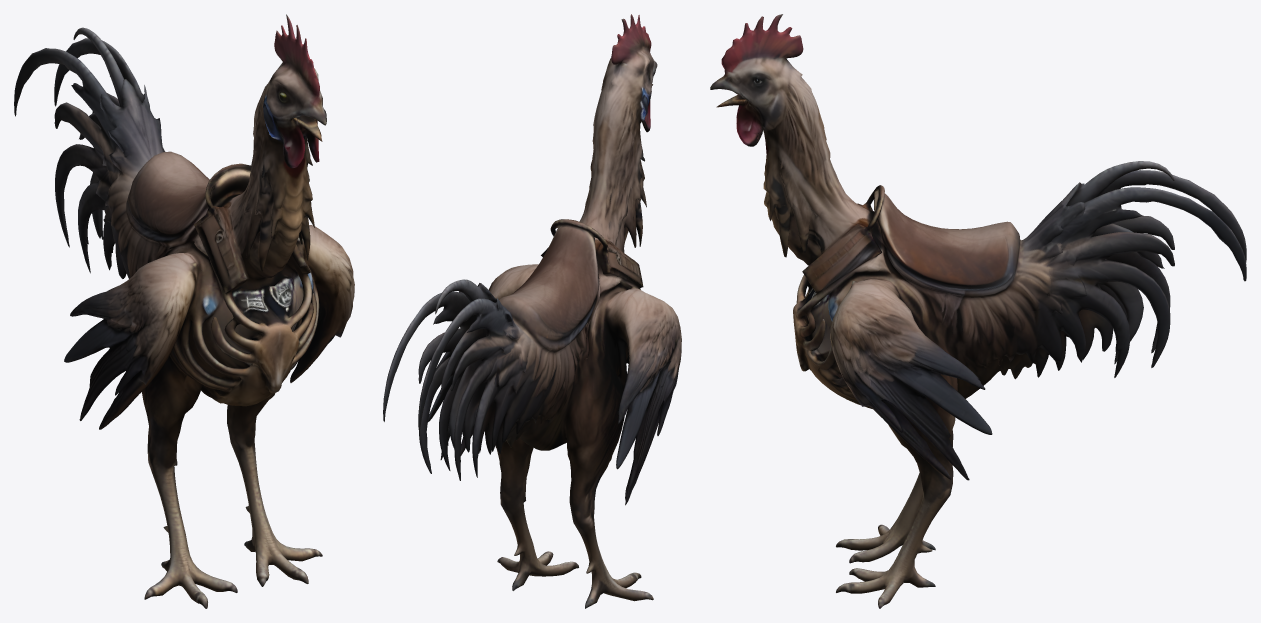
File: base_basic_pbr.fbx
3 views of the same model, side by side, from view 1: azimuth 30°, elevation 25°; view 2: azimuth 150°, elevation 25°; view 3: azimuth 270°, elevation 25° (orthographic). The views are drawn at different scales.
Parts seen in each view (by area): view 1: model; view 2: model; view 3: model.
Boxes of the visible parts, bbox=[...] form: model: bbox=[14, 14, 354, 608]; model: bbox=[383, 14, 681, 608]; model: bbox=[710, 14, 1246, 608].
Bounding box in the file's own units: 64.88 × 171 × 149.
1 material, 1 textured.
